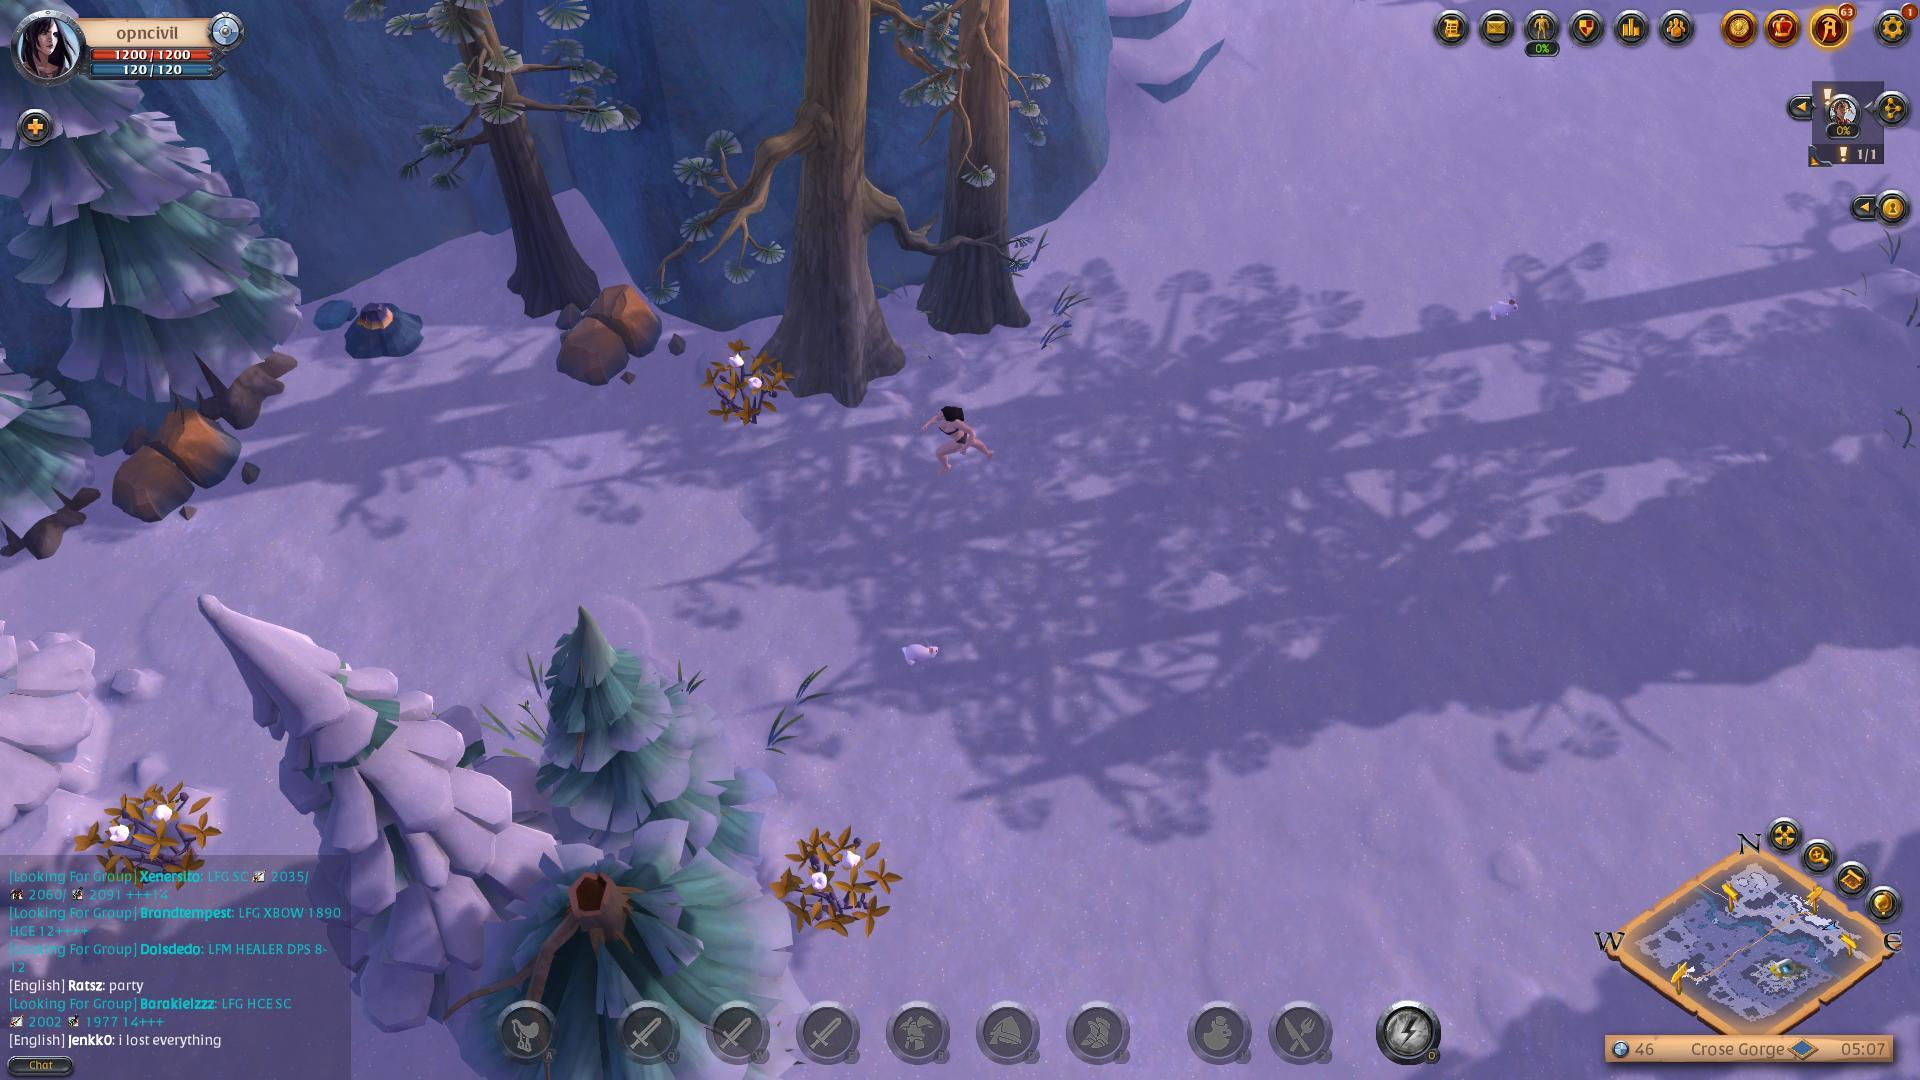copper_ore: (326, 294, 442, 364)
cotton: (75, 781, 219, 894), (769, 841, 909, 943), (699, 343, 814, 417)
limestone: (102, 400, 266, 538), (546, 281, 674, 397)
